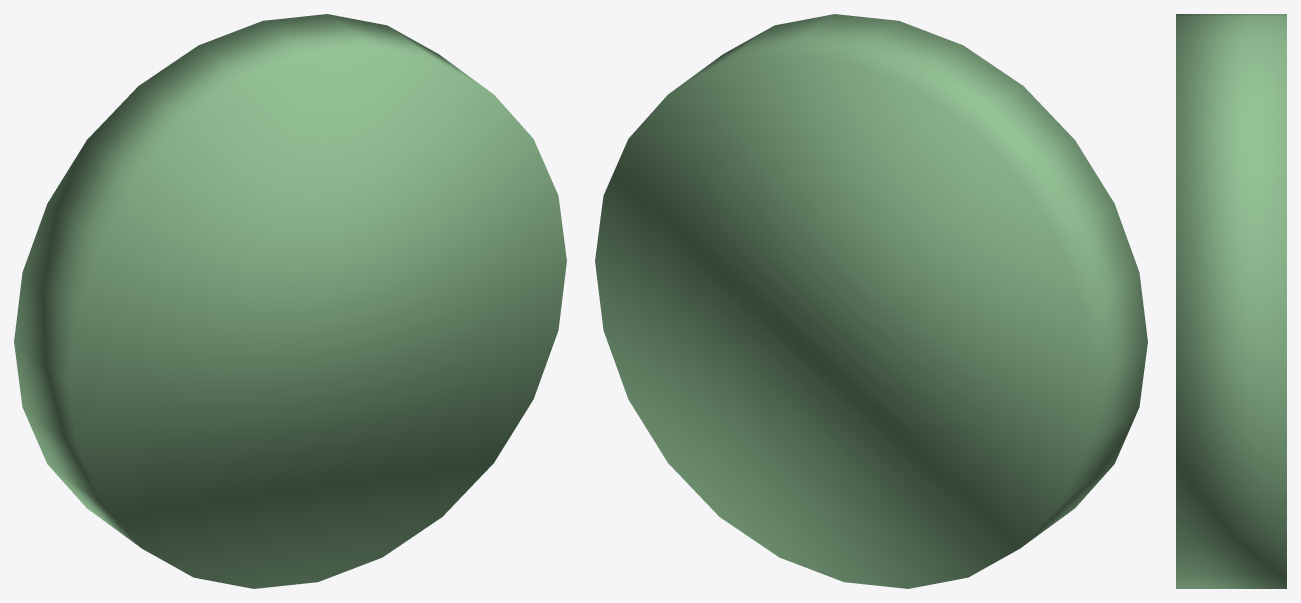
File: shape-circle-green.glb
3 views of the same model, side by side, from view 1: azimuth 30°, elevation 25°; view 2: azimuth 150°, elevation 25°; view 3: azimuth 270°, elevation 25° (orthographic).
Visible parts, largest first — view 1: solid circle; view 2: solid circle; view 3: solid circle.
Part boxes in pixels (x1,y1,x2,y2): solid circle: (14,14,566,588); solid circle: (595,14,1147,588); solid circle: (1176,14,1286,588).
Size of the model in its own units: 1.3 by 1.3 by 0.25.
